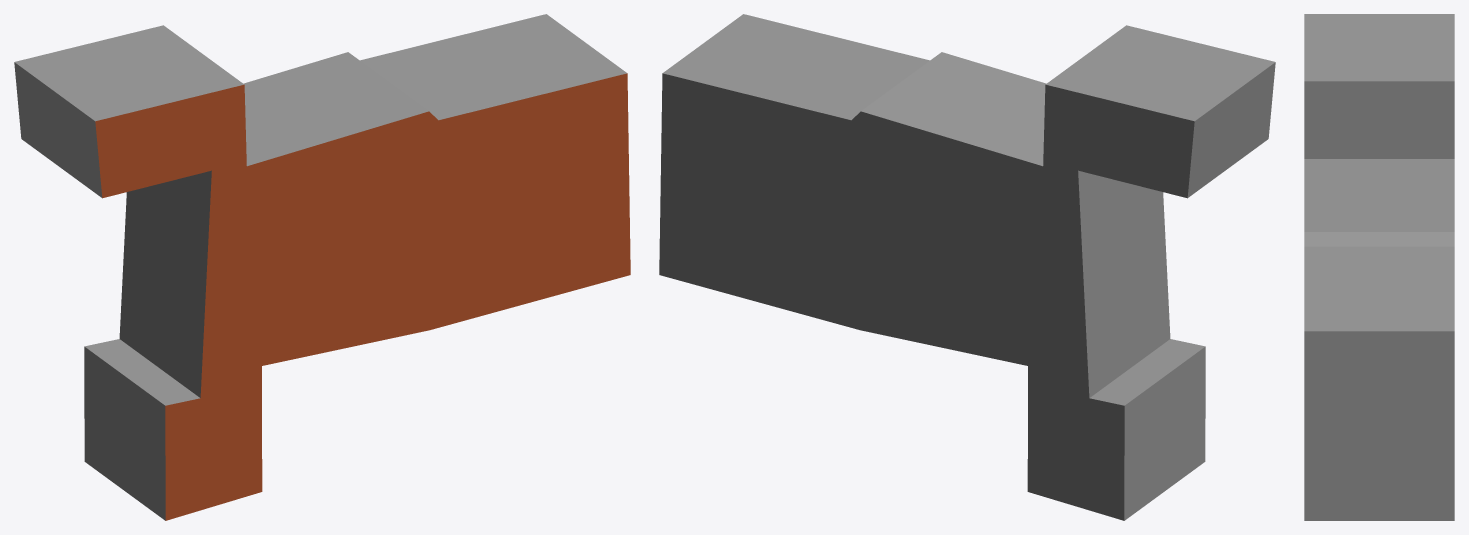
Rendered from construction_0812_assumed_A_Casa_h6m.obj.
3 renders of one model, left to right at view 1: azimuth 30°, elevation 25°; view 2: azimuth 150°, elevation 25°; view 3: azimuth 270°, elevation 25°, orthographic. The views are drawn at different scales.
Parts seen in each view (by area): view 1: construction_0812_assumed_A_Casa; view 2: construction_0812_assumed_A_Casa; view 3: construction_0812_assumed_A_Casa.
Part boxes in pixels (x1=…): construction_0812_assumed_A_Casa: x1=14, y1=14, x2=630, y2=520; construction_0812_assumed_A_Casa: x1=659, y1=14, x2=1275, y2=520; construction_0812_assumed_A_Casa: x1=1304, y1=14, x2=1454, y2=520.
Bounding box in the file's own units: 22.89 × 17.04 × 6.
